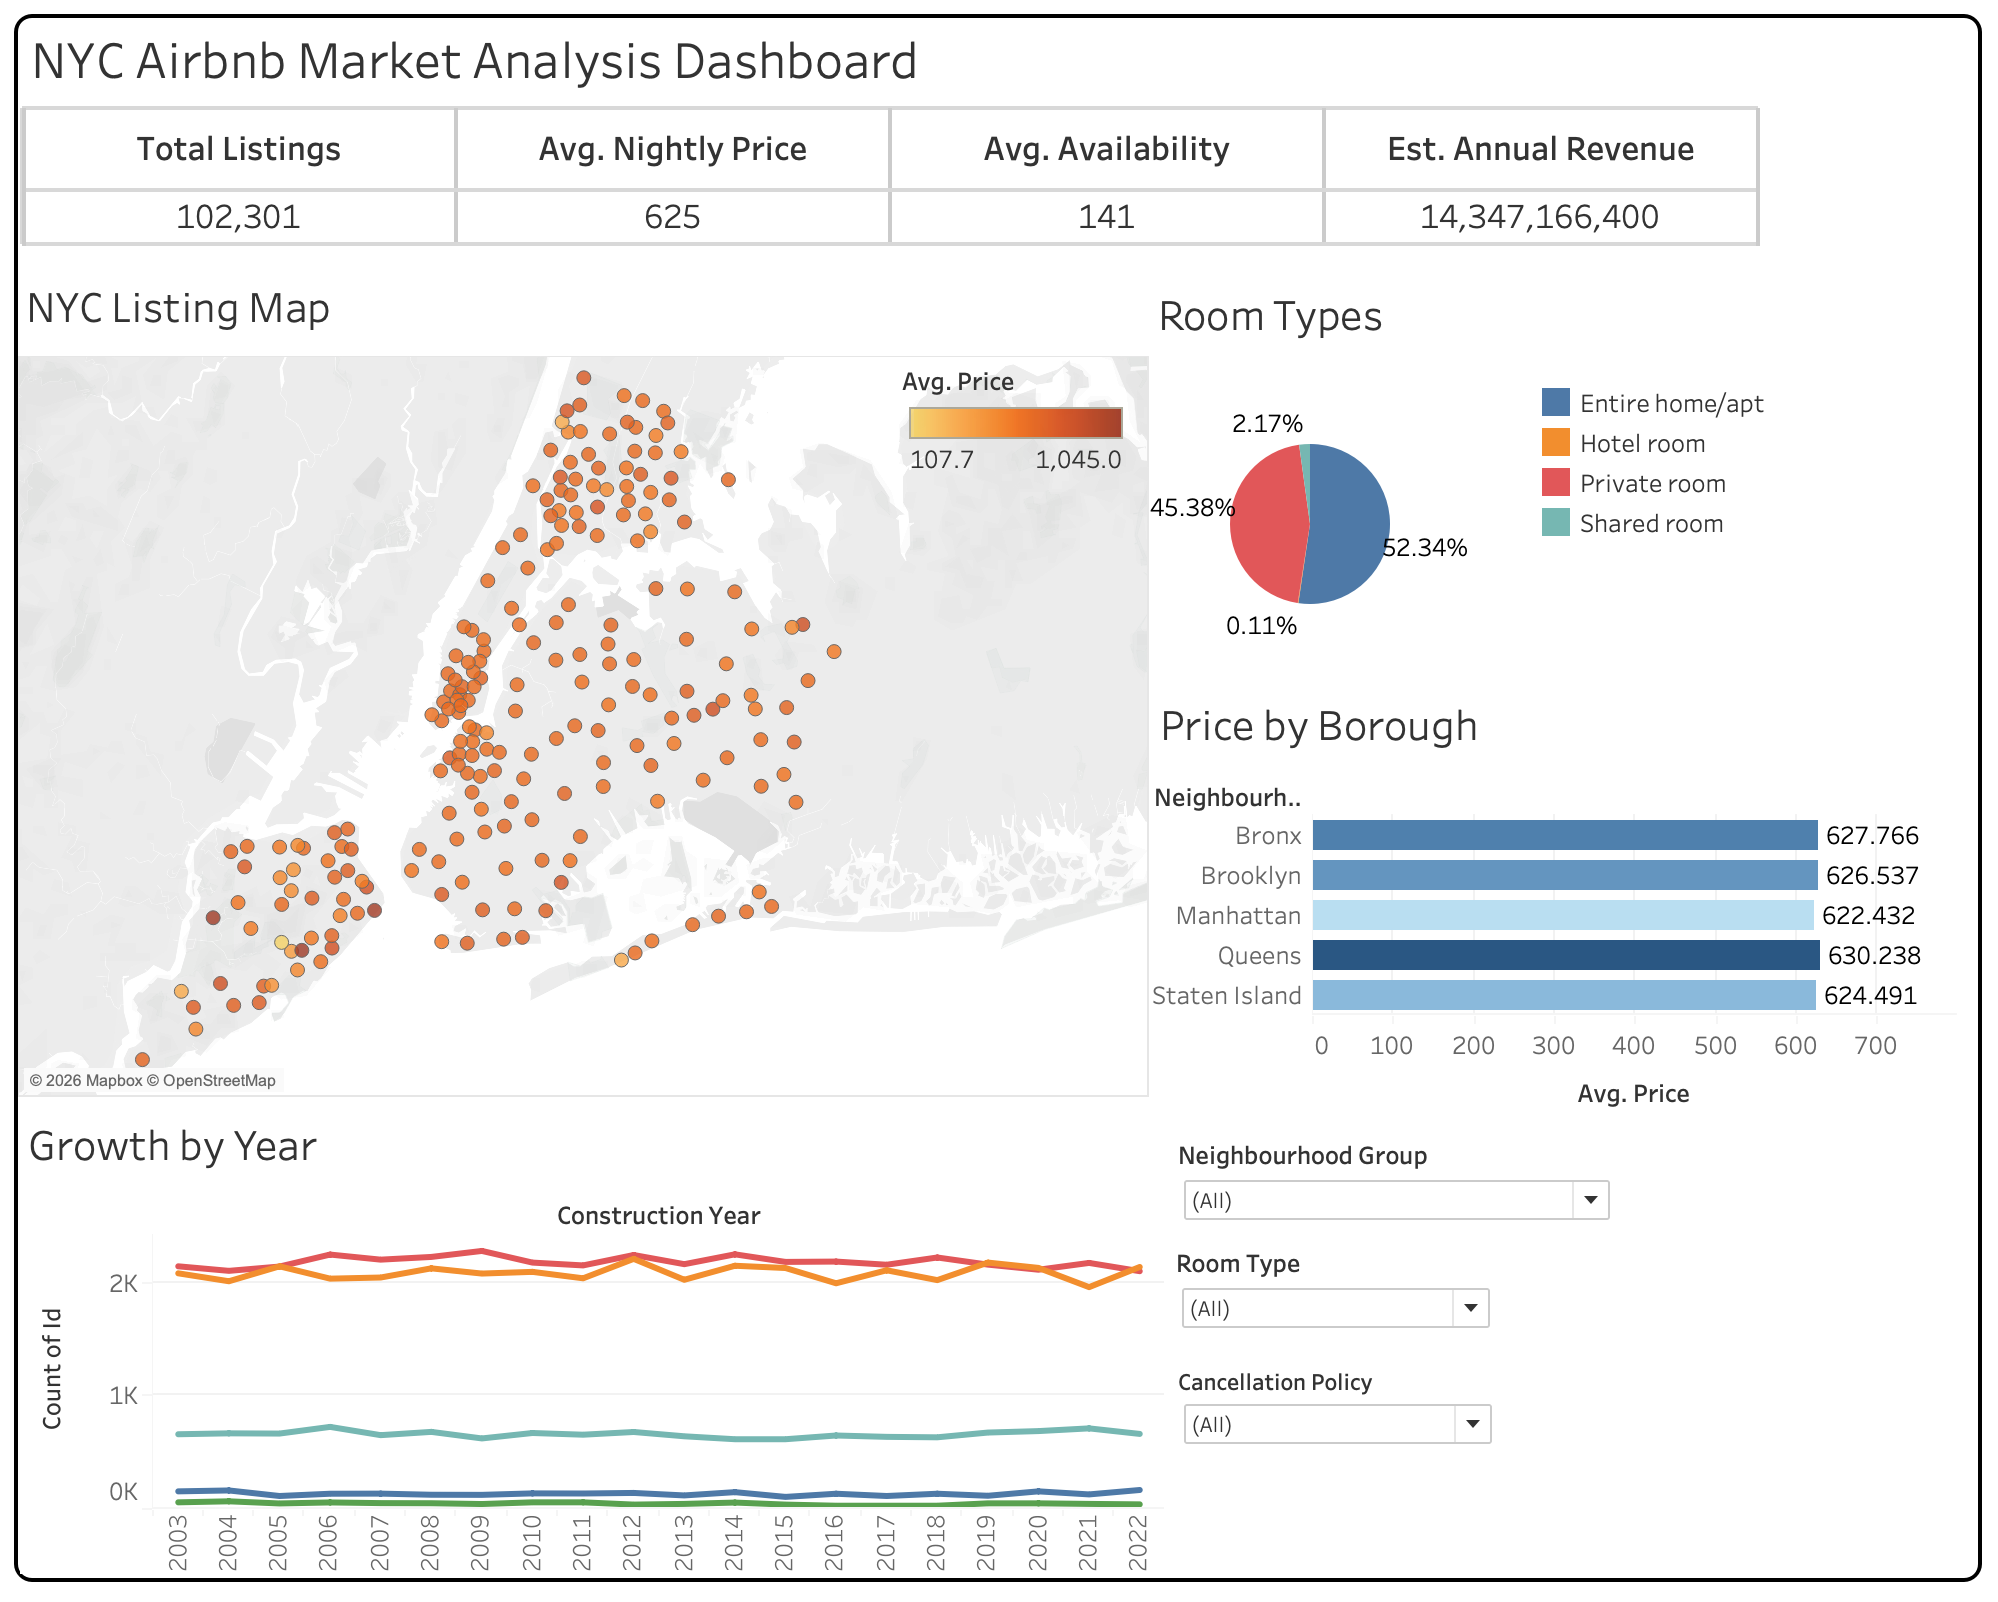

This screenshot's page, from the dashboard's own definition file:
{"tool":"tableau","page":{"name":"Dashboard 1","canvas":[1000,800],"ordinal":0},"visuals":[{"type":"title","box":[10,10,948,42]},{"type":"worksheet","title":"KPI","mark":"Automatic","box":[11,54,885,84]},{"type":"worksheet","title":"Map","mark":"Multipolygon","rows":["lat"],"cols":["long"],"box":[10,136,566,414]},{"type":"worksheet","title":"Room Types","mark":"Pie","box":[576,140,333,206]},{"type":"legend","title":"Map","param":"[federated.0qn6q9d1qg3jk91do09ui0c2r5ry].[avg:price:qk]","box":[452,183,115,60]},{"type":"legend","title":"Room Types","param":"[federated.0qn6q9d1qg3jk91do09ui0c2r5ry].[none:room_type:nk]","box":[769,192,140,98]},{"type":"worksheet","title":"Price by Borough","mark":"Automatic","rows":["neighbourhood_group"],"cols":["price"],"box":[577,345,413,232]},{"type":"worksheet","title":"Growth by Year","mark":"Line","rows":["number_of_reviews"],"cols":["last_review"],"box":[11,555,572,233]},{"type":"filter","title":"Map","param":"[federated.0qn6q9d1qg3jk91do09ui0c2r5ry].[none:neighbourhood_group:nk]","box":[590,570,219,45]},{"type":"filter","title":"Room Types","param":"[federated.0qn6q9d1qg3jk91do09ui0c2r5ry].[none:room_type:nk]","box":[589,624,160,52]},{"type":"filter","title":"KPI","param":"[federated.0qn6q9d1qg3jk91do09ui0c2r5ry].[none:cancellation_policy:nk]","box":[590,684,160,52]}]}

Visuals, with their boxes in screenshot pixels (x1, y1, x2, y2), scaled from the page's 1000x800 canvas onto the 1998x1602 screenshot:
title: pyautogui.locateOnScreen(20, 20, 1914, 104)
"KPI" worksheet: pyautogui.locateOnScreen(22, 108, 1790, 276)
"Map" worksheet (Multipolygon marks): pyautogui.locateOnScreen(20, 272, 1151, 1101)
"Room Types" worksheet (Pie marks): pyautogui.locateOnScreen(1151, 280, 1816, 693)
"Map" legend: pyautogui.locateOnScreen(903, 366, 1133, 487)
"Room Types" legend: pyautogui.locateOnScreen(1536, 384, 1816, 581)
"Price by Borough" worksheet: pyautogui.locateOnScreen(1153, 691, 1978, 1155)
"Growth by Year" worksheet (Line marks): pyautogui.locateOnScreen(22, 1111, 1165, 1578)
"Map" filter: pyautogui.locateOnScreen(1179, 1141, 1616, 1232)
"Room Types" filter: pyautogui.locateOnScreen(1177, 1250, 1497, 1354)
"KPI" filter: pyautogui.locateOnScreen(1179, 1370, 1498, 1474)
